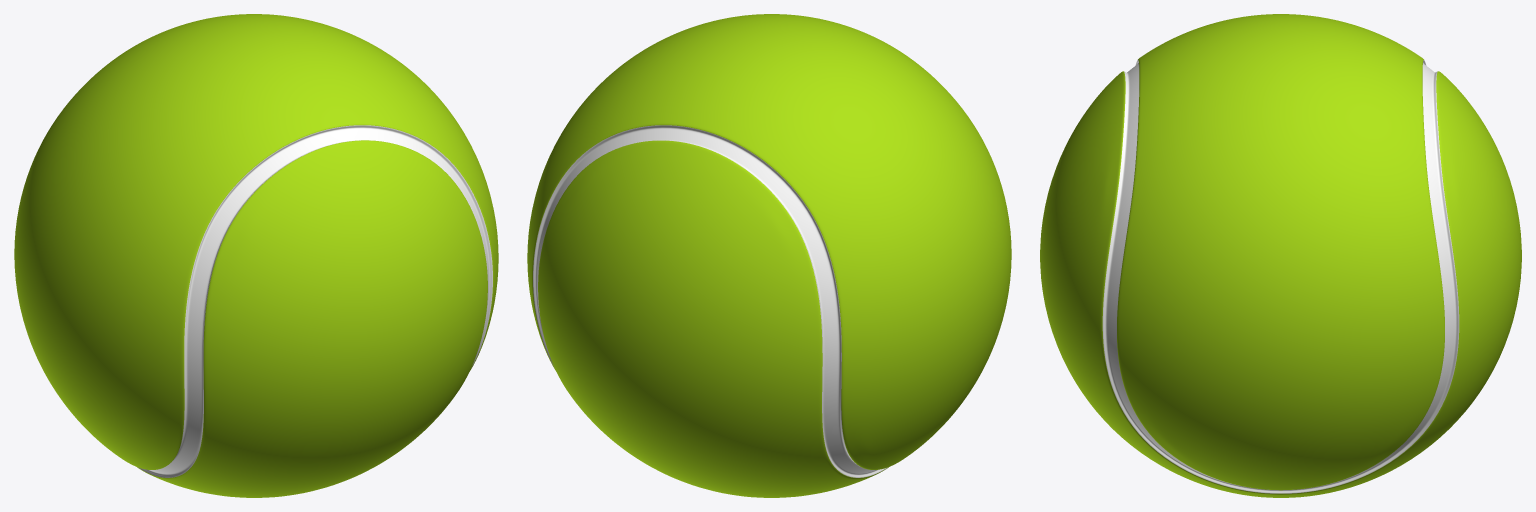
File: TennisBall 2.glb
3 views of the same model, side by side, from view 1: azimuth 30°, elevation 25°; view 2: azimuth 150°, elevation 25°; view 3: azimuth 270°, elevation 25° (orthographic).
Visible parts, largest first — view 1: pPlatonic1; view 2: pPlatonic1; view 3: pPlatonic1.
Part boxes in pixels (box(x1,y1,x2,y2)): pPlatonic1: box(14, 14, 498, 497); pPlatonic1: box(527, 14, 1011, 497); pPlatonic1: box(1040, 14, 1521, 497).
Bounding box in the file's own units: 2.43 × 2.44 × 2.43.
